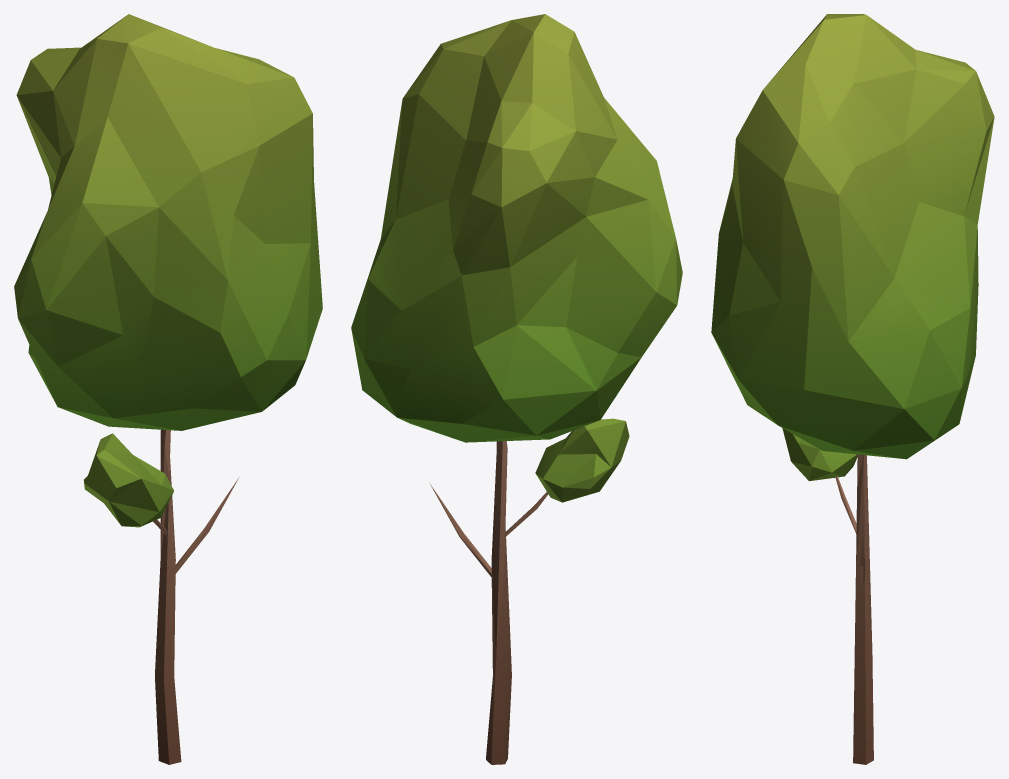
The model's file is Tree_01.fbx.
The picture shows the model from 3 angles, left to right: view 1: azimuth 30°, elevation 25°; view 2: azimuth 150°, elevation 25°; view 3: azimuth 270°, elevation 25°; orthographic projection. The views are drawn at different scales.
Visible parts, largest first — view 1: Tree_01; view 2: Tree_01; view 3: Tree_01.
Part boxes in pixels (x1,y1,x2,y2): Tree_01: (14, 14, 322, 764); Tree_01: (351, 14, 682, 764); Tree_01: (711, 14, 994, 764).
Bounding box in the file's own units: 271 × 661 × 234.
